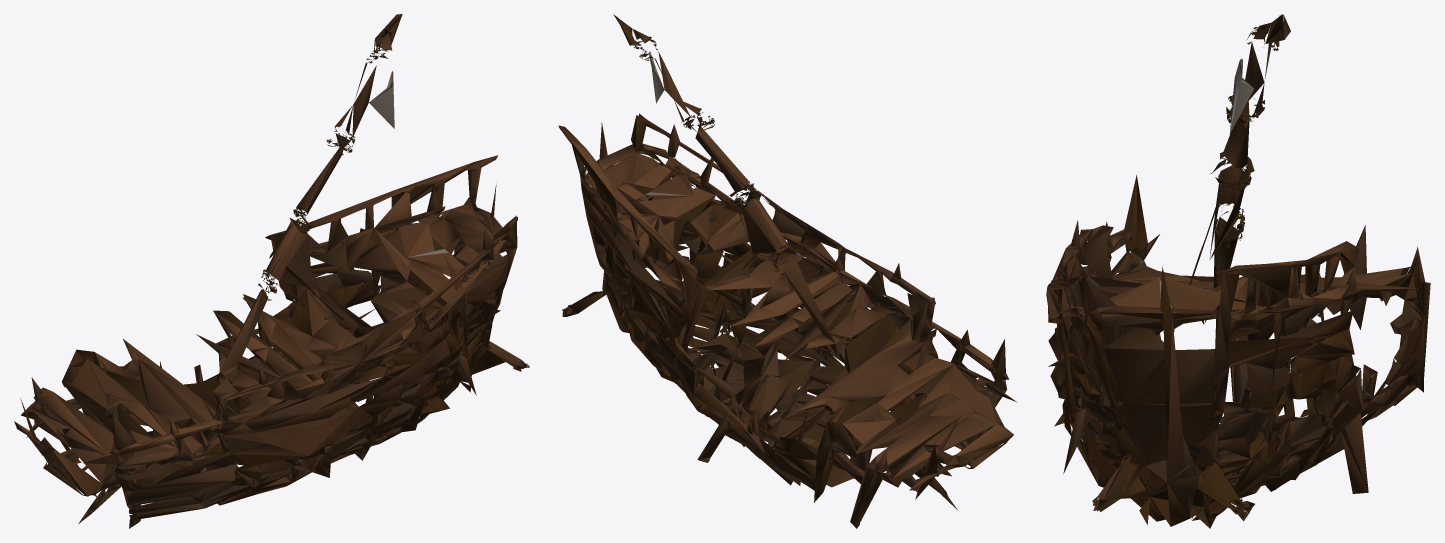
File: wreck.glb
3 views of the same model, side by side, from view 1: azimuth 30°, elevation 25°; view 2: azimuth 150°, elevation 25°; view 3: azimuth 270°, elevation 25° (orthographic). The views are drawn at different scales.
Visible parts, largest first — view 1: wreck; view 2: wreck; view 3: wreck.
Boxes of the visible parts, x1,y1,x2,y2 form: wreck: (14, 14, 529, 528); wreck: (558, 14, 1016, 528); wreck: (1046, 14, 1430, 528).
Bounding box in the file's own units: 13.56 × 12.51 × 7.31.
